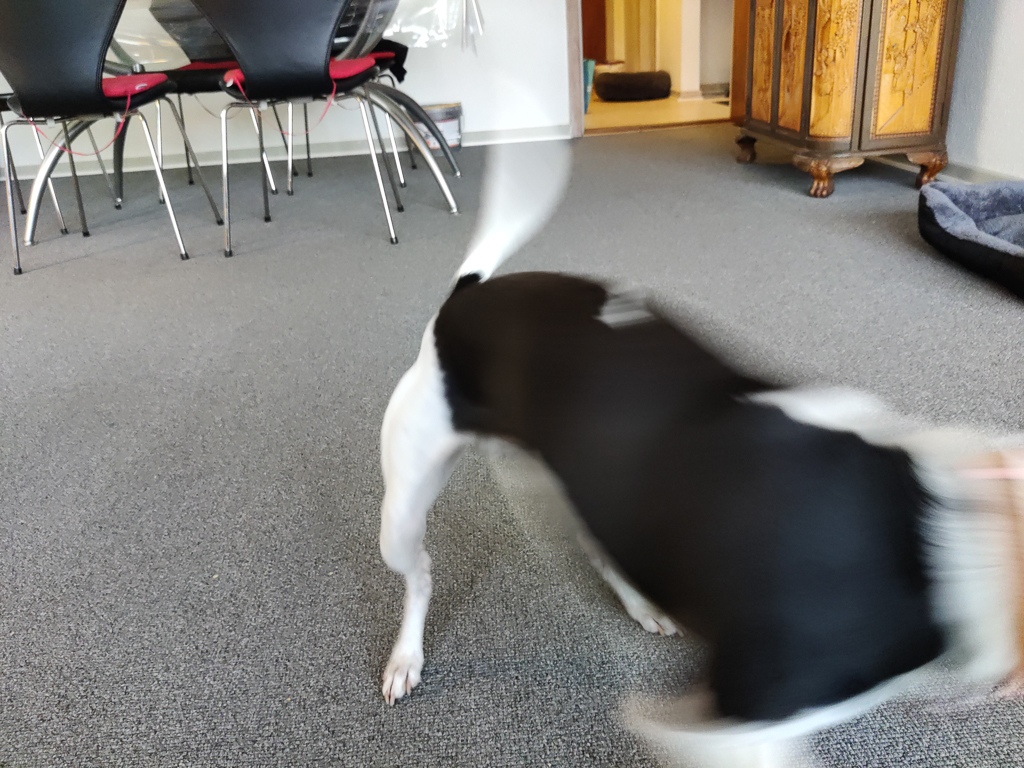Dog: (363, 64, 1024, 768)
